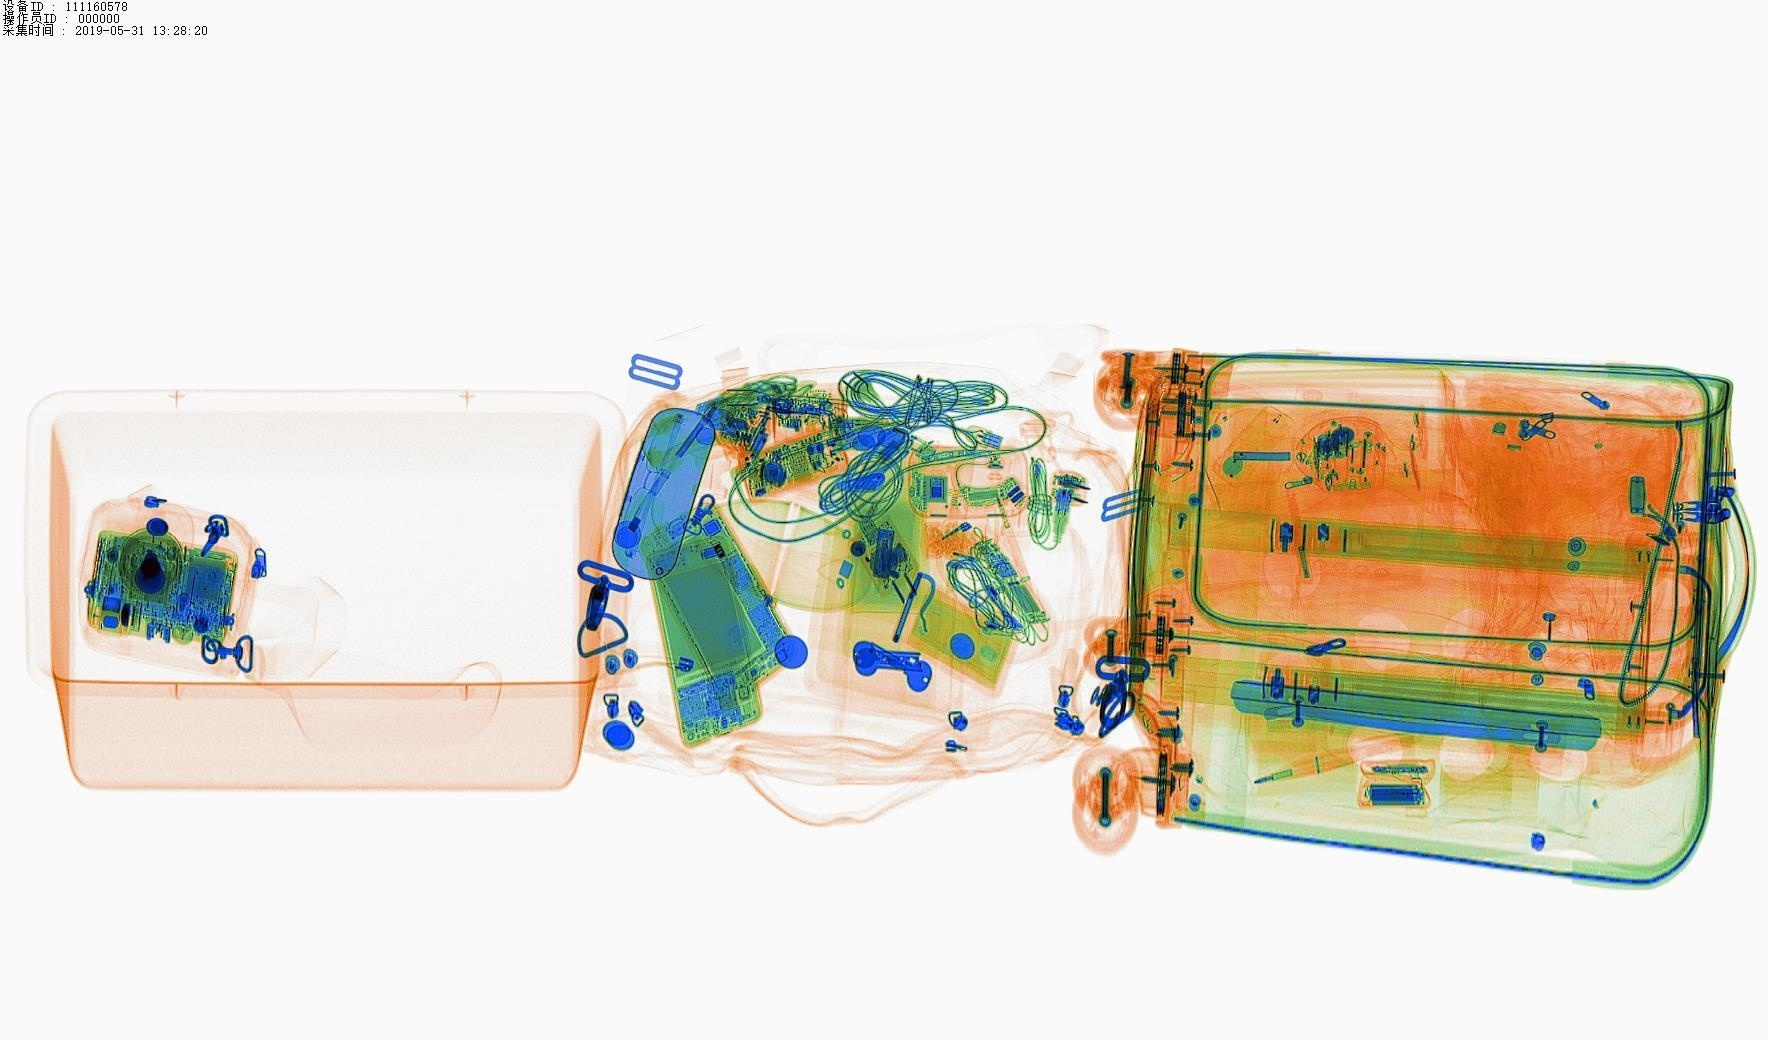NonmetallicFire: (862, 417, 947, 464)
